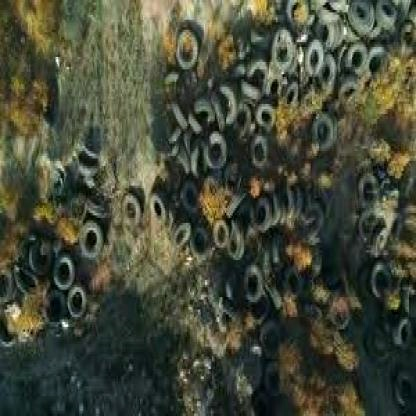tire: (163, 2, 416, 170), (1, 141, 104, 332), (362, 156, 416, 416), (147, 186, 329, 252), (234, 260, 284, 416), (115, 186, 148, 232)
